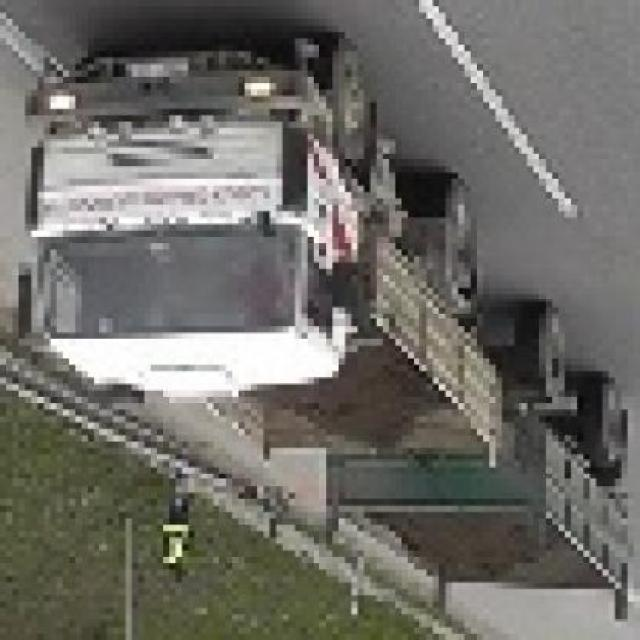truck: (26, 33, 640, 628)
